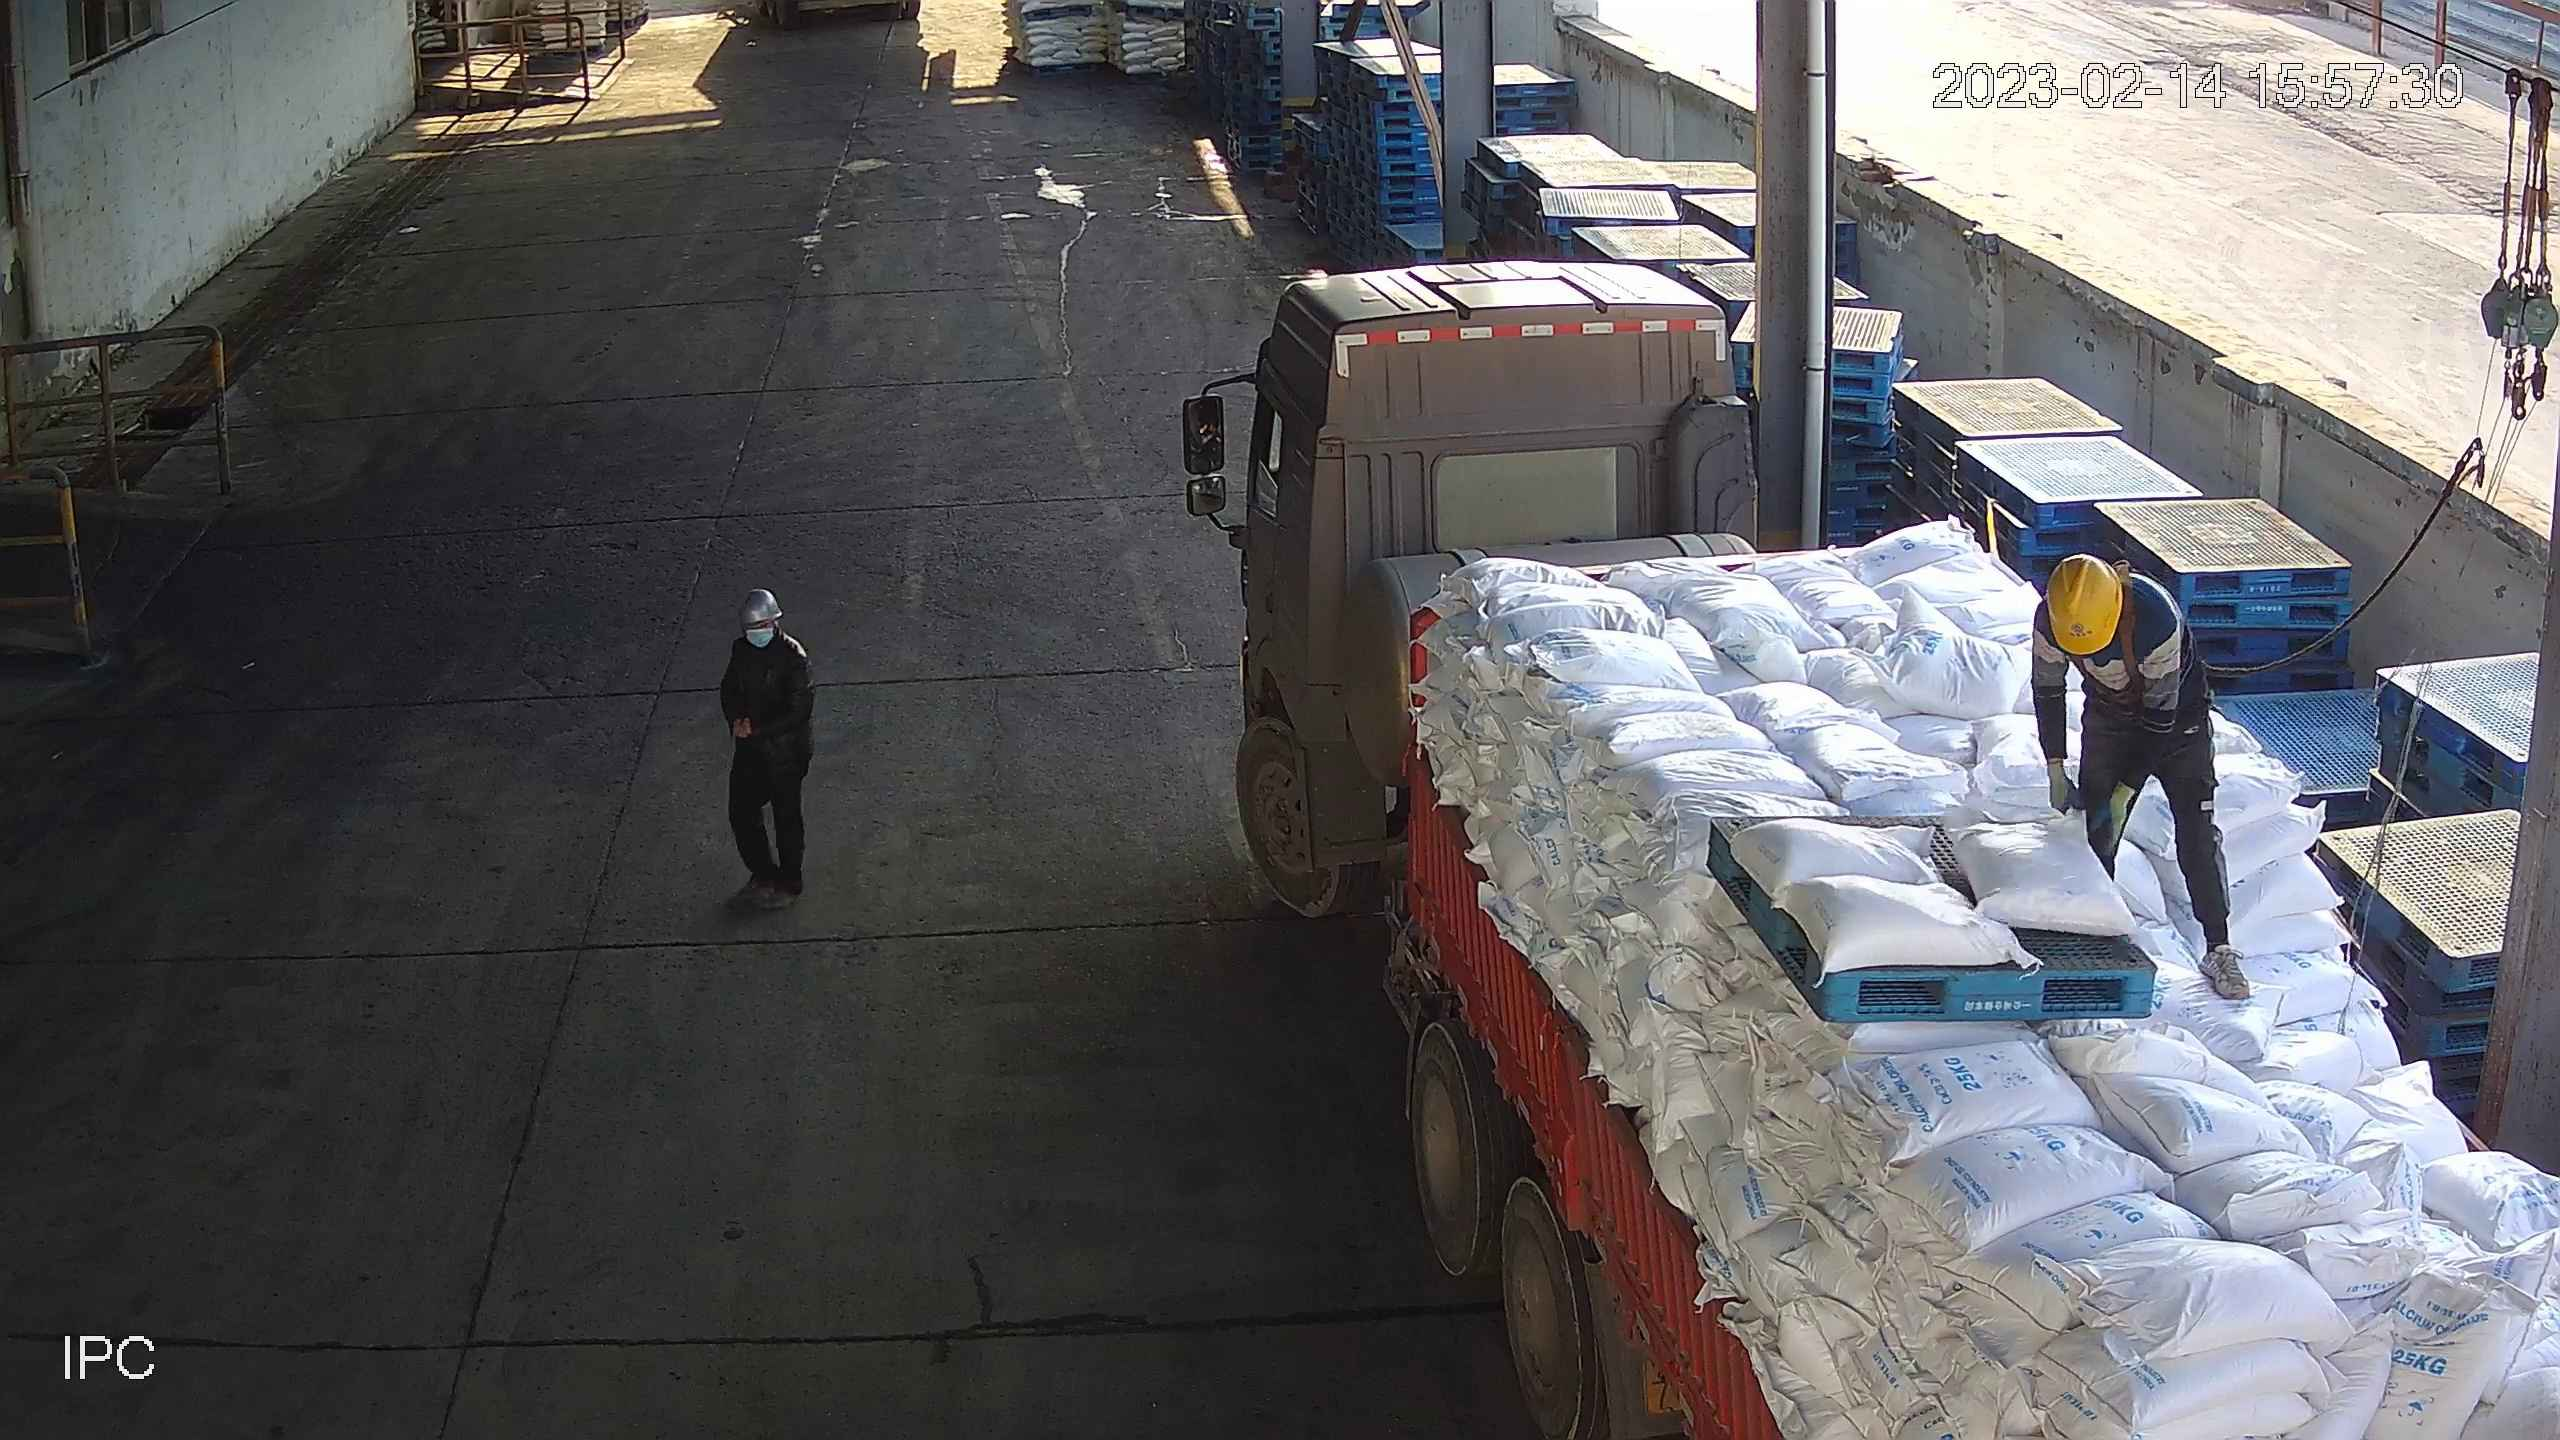belt: (2054, 560, 2182, 703)
head: (2028, 549, 2187, 655), (724, 585, 811, 669)
helmet: (2044, 552, 2125, 655), (738, 587, 782, 625)
people: (2030, 548, 2252, 1002), (717, 586, 817, 912)
truck: (1229, 259, 2560, 1440)
